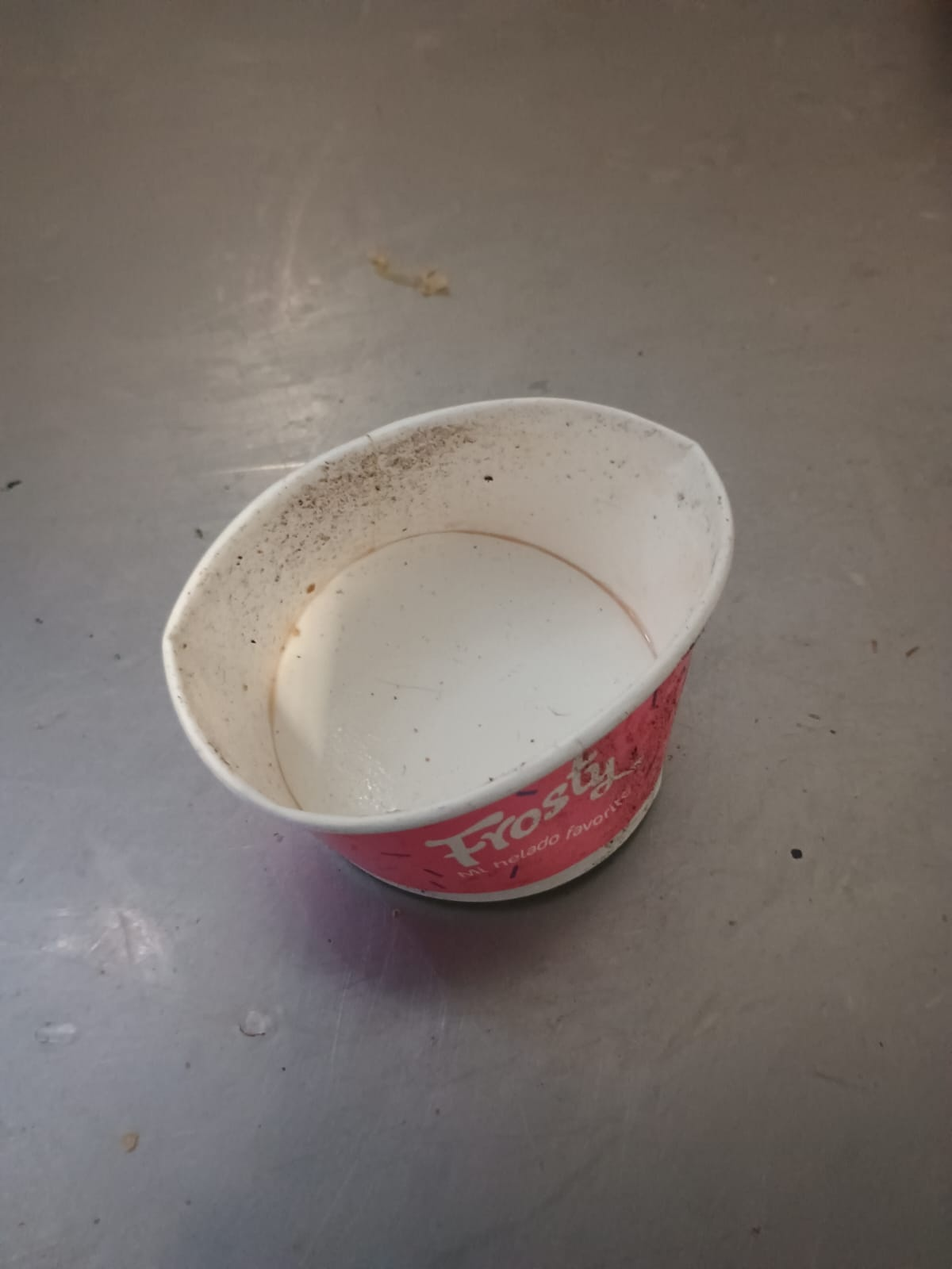Carton: (161, 400, 736, 906)
